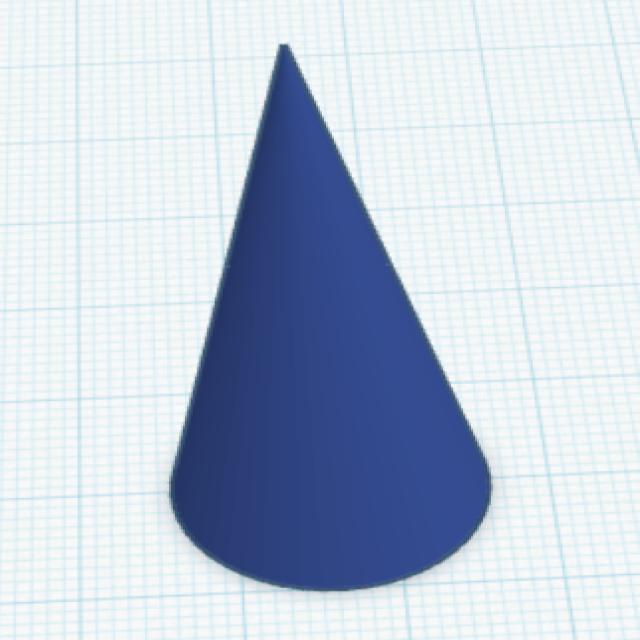cone: (163, 38, 499, 596)
